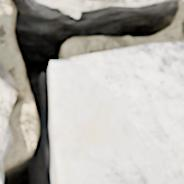brick: (50, 41, 183, 183), (0, 66, 16, 183), (70, 0, 169, 5)
crack: (2, 0, 182, 183)
